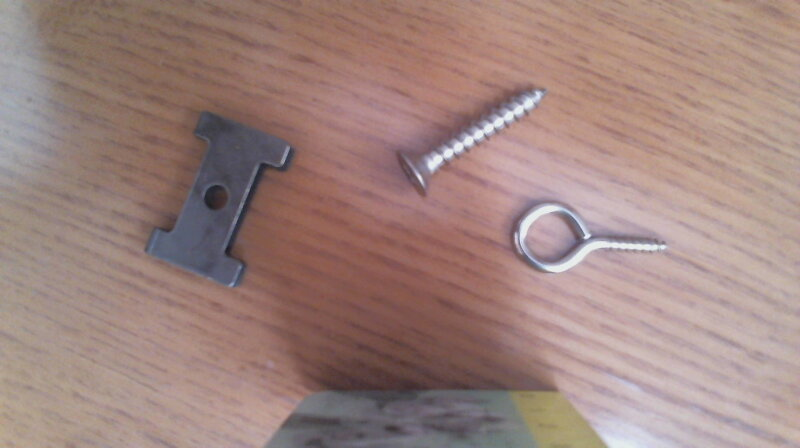O001: (509, 199, 673, 278)
O002: (139, 106, 296, 295)
S001: (390, 81, 555, 200)
